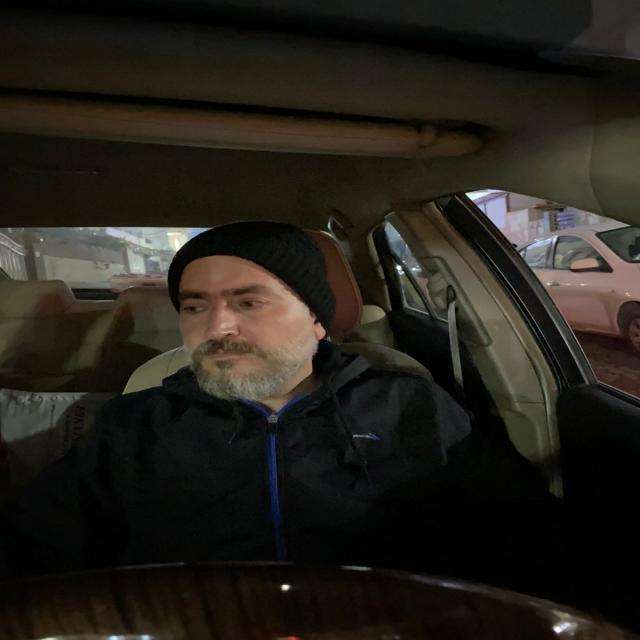person: (162, 217, 340, 407)
